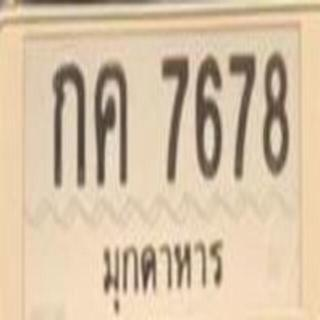A01: (46, 57, 88, 193)
A04: (89, 55, 135, 194)
N06: (191, 48, 228, 183)
N07: (223, 49, 260, 186), (154, 50, 190, 190)
N08: (259, 49, 290, 180)
P26: (99, 229, 228, 313)
